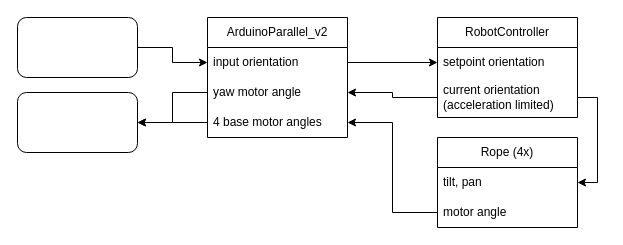
The diagram is 623 pixels wide and 245 high, and some of its shapes have lost their labels. The shapes that lost their labels are listed below. From the top down, each one's centre as x and y in pixels, then its label:
pixel 77 47: Orientation ros topic
pixel 77 122: Send motor angles arduino serial communication
